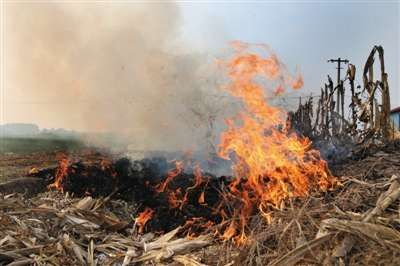fire: (60, 46, 344, 198)
